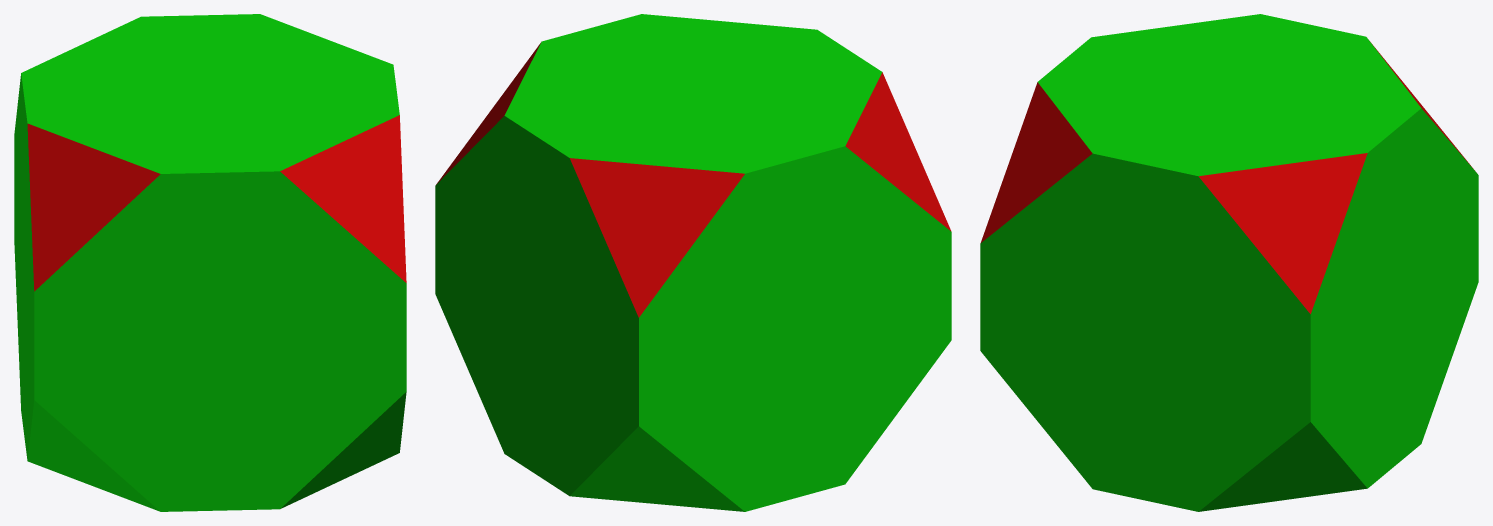
The model's file is anim_cube_000050.obj.
3 views of the same model, side by side, from view 1: azimuth 30°, elevation 25°; view 2: azimuth 150°, elevation 25°; view 3: azimuth 270°, elevation 25° (orthographic).
Parts seen in each view (by area): view 1: Cube_Cube.002_Material.002, Cube_Cube.002_Material.001; view 2: Cube_Cube.002_Material.002, Cube_Cube.002_Material.001; view 3: Cube_Cube.002_Material.002, Cube_Cube.002_Material.001.
Part boxes in pixels (x1,y1,x2,y2): Cube_Cube.002_Material.002: [14, 14, 406, 511]; Cube_Cube.002_Material.001: [27, 115, 406, 291]; Cube_Cube.002_Material.002: [435, 14, 951, 511]; Cube_Cube.002_Material.001: [436, 43, 951, 317]; Cube_Cube.002_Material.002: [980, 14, 1478, 511]; Cube_Cube.002_Material.001: [980, 42, 1476, 313].
Bounding box in the file's own units: 4.16 × 3.09 × 4.16.
